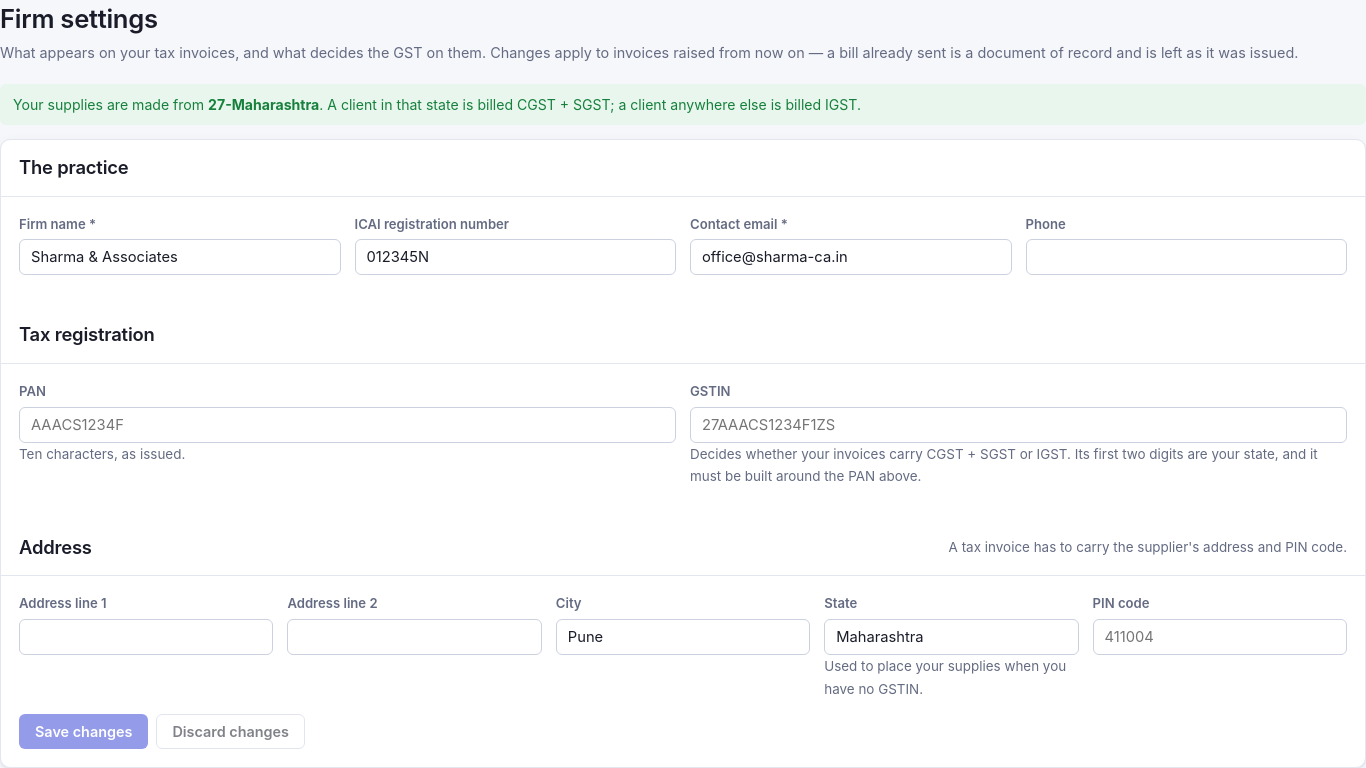
it: Editing the firm › shows the server’s refusal rather than a generic failure
Type "27AAACS1234F1ZZ" into the field labelled "GSTIN". click: (1018, 425)
box: x1=690 y1=407 x2=1347 y2=443
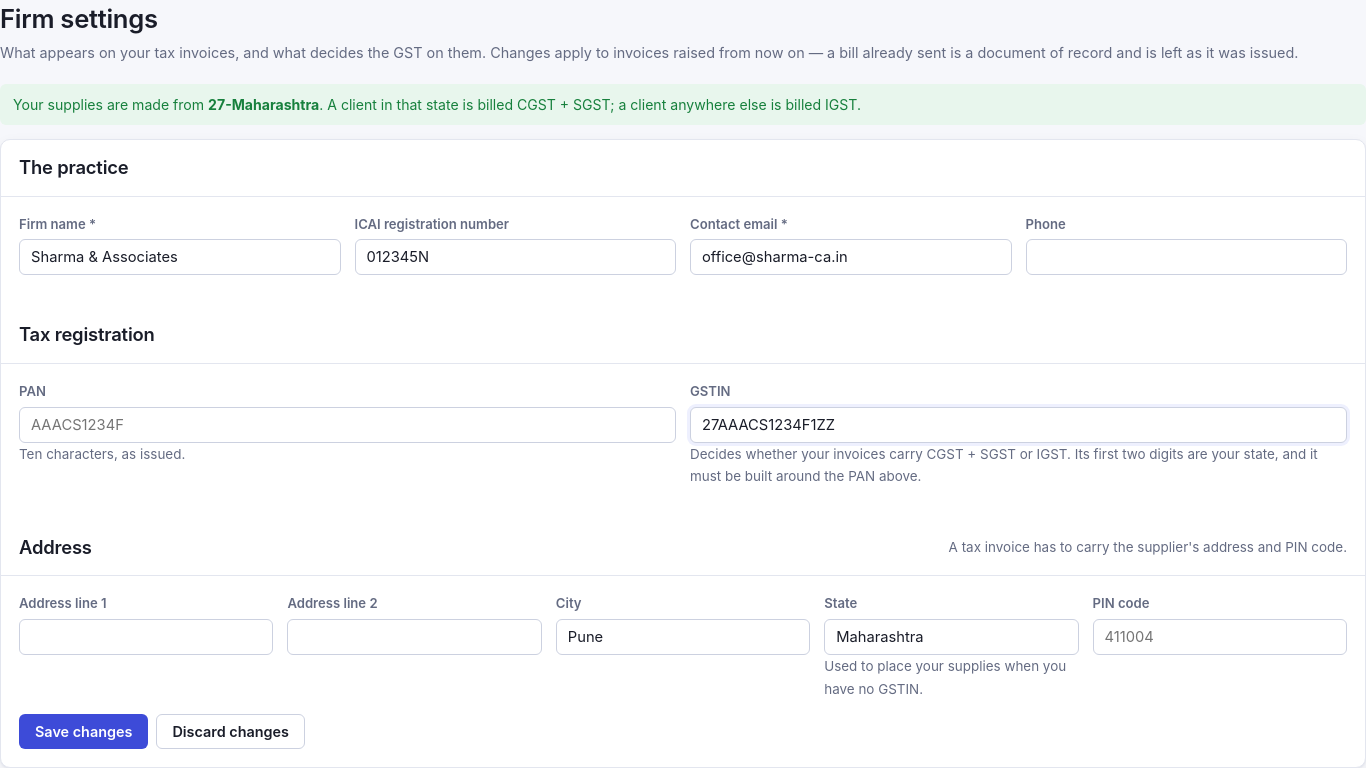
Click the button "Save changes". click: click(84, 732)
box: x1=19 y1=714 x2=148 y2=749
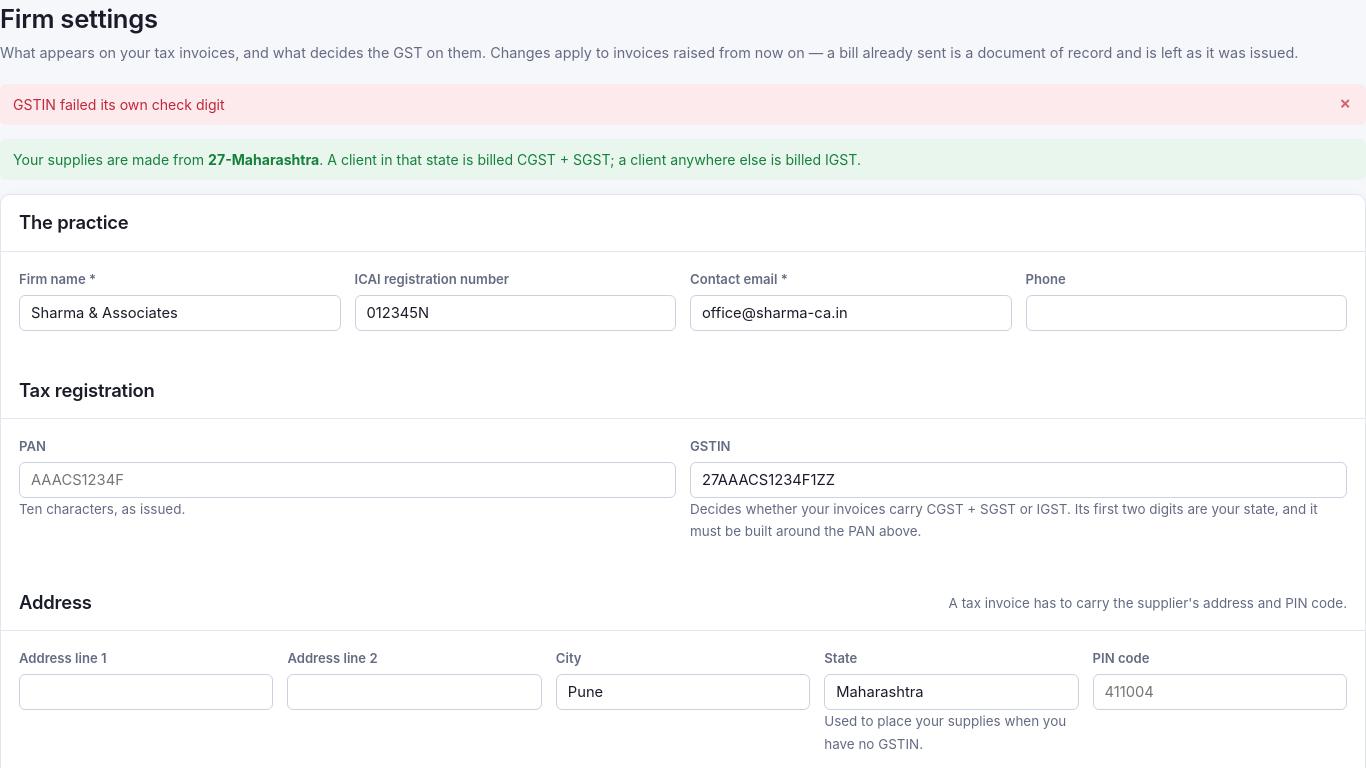
Now the text "GSTIN failed its own check digit" is shown, box x1=13 y1=94 x2=225 y2=115
